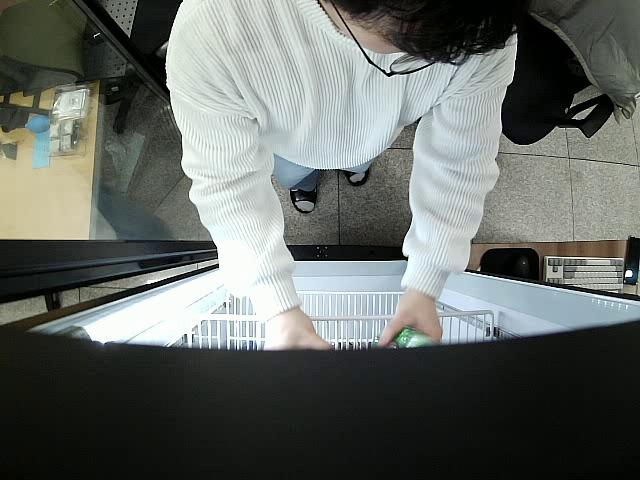00_hand: (376, 294, 444, 345)
18_trevi: (371, 326, 439, 350)
